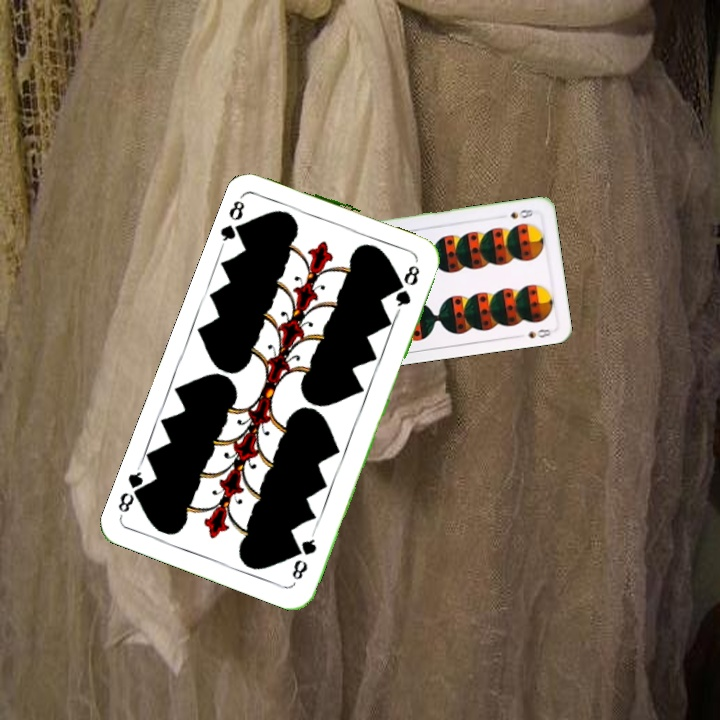G8: (217, 190, 250, 247), (287, 528, 319, 583)
S8: (507, 205, 535, 221)
